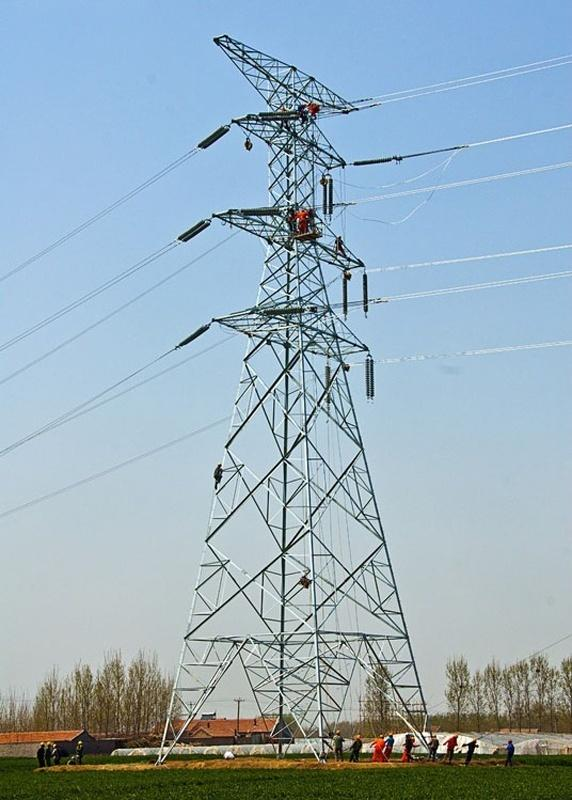power_tower: (176, 20, 444, 756)
